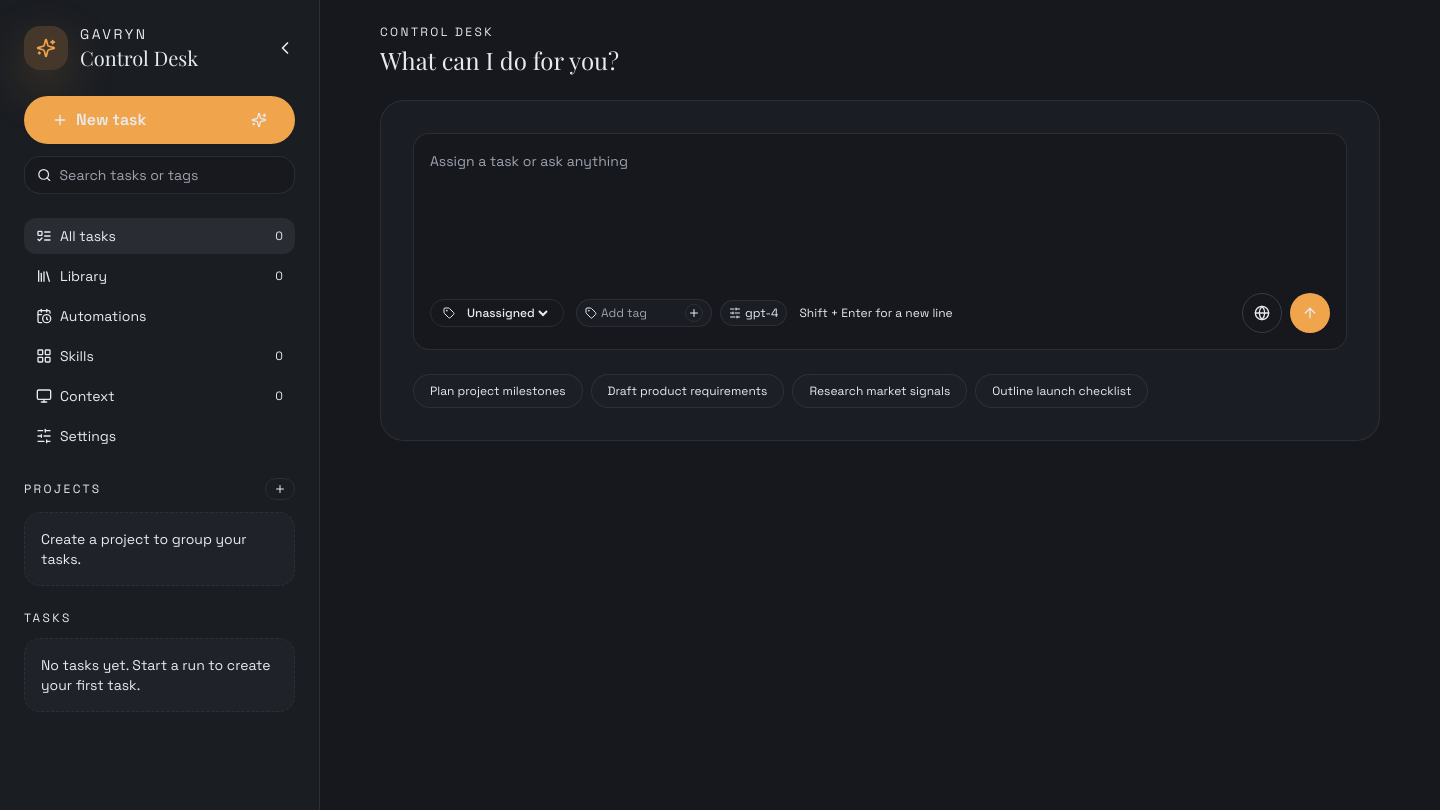
Test: App Component › Comprehensive Coverage Tests › shows enabled label for user-tab browser toggle
Click the button named "Enable user tab browser mode" at (1262, 313), box 1242,293 -> 1282,333
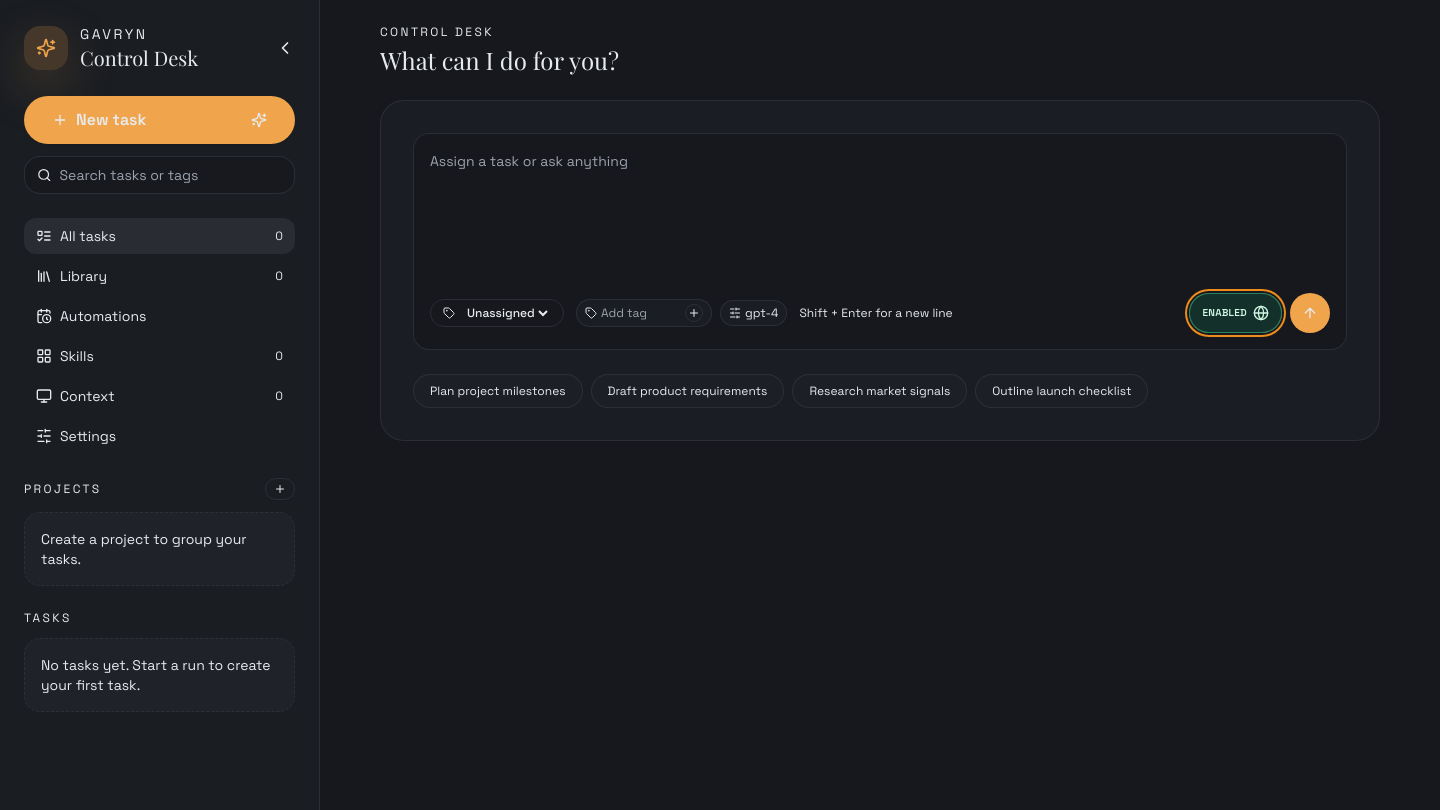
Check: the text "Enabled" is shown, box 1202,303 -> 1247,323
